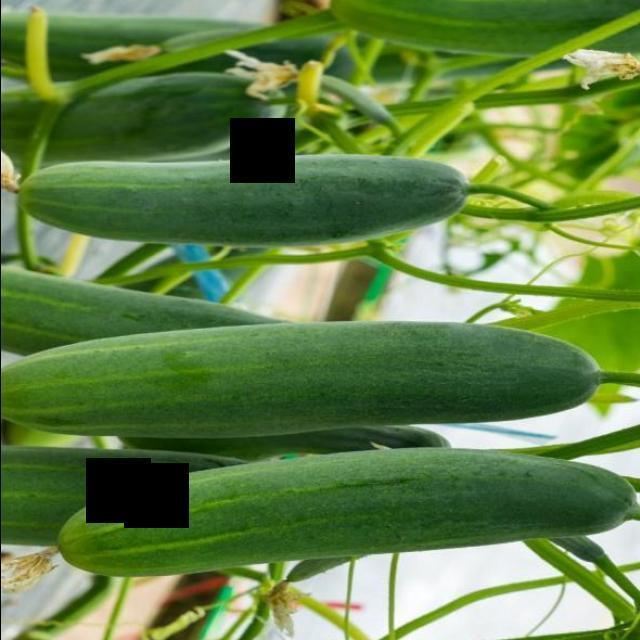cucumber: (59, 445, 634, 578), (0, 319, 606, 439), (17, 158, 466, 246), (338, 0, 640, 58)
